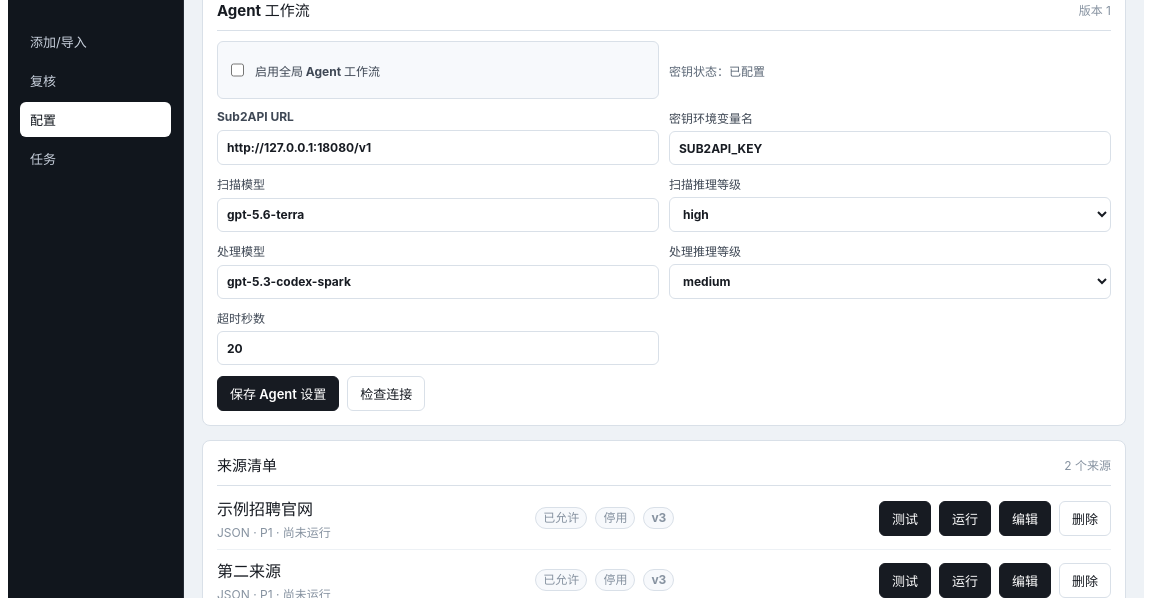
Test: API-driven micro frontend › resets source form values when switching the edited source
Click the button with aria-label "编辑来源 示例招聘官网": x=1025, y=518 999,500 -> 1051,536
(page scrolled)
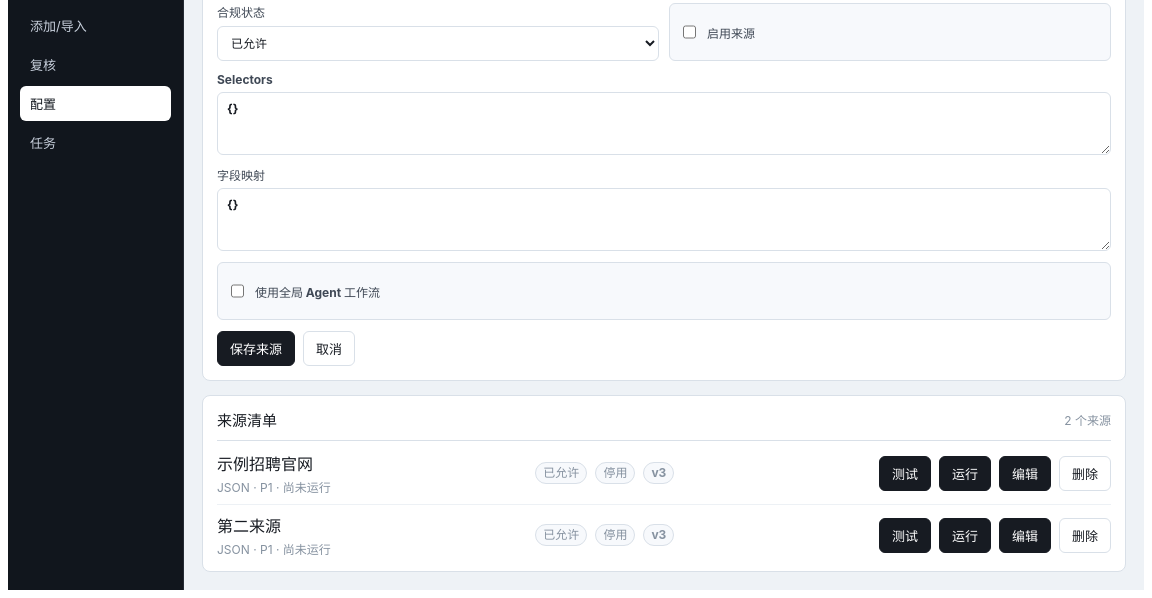
Click the button with aria-label "编辑来源 第二来源": x=1025, y=535 999,518 -> 1051,552
(page scrolled)
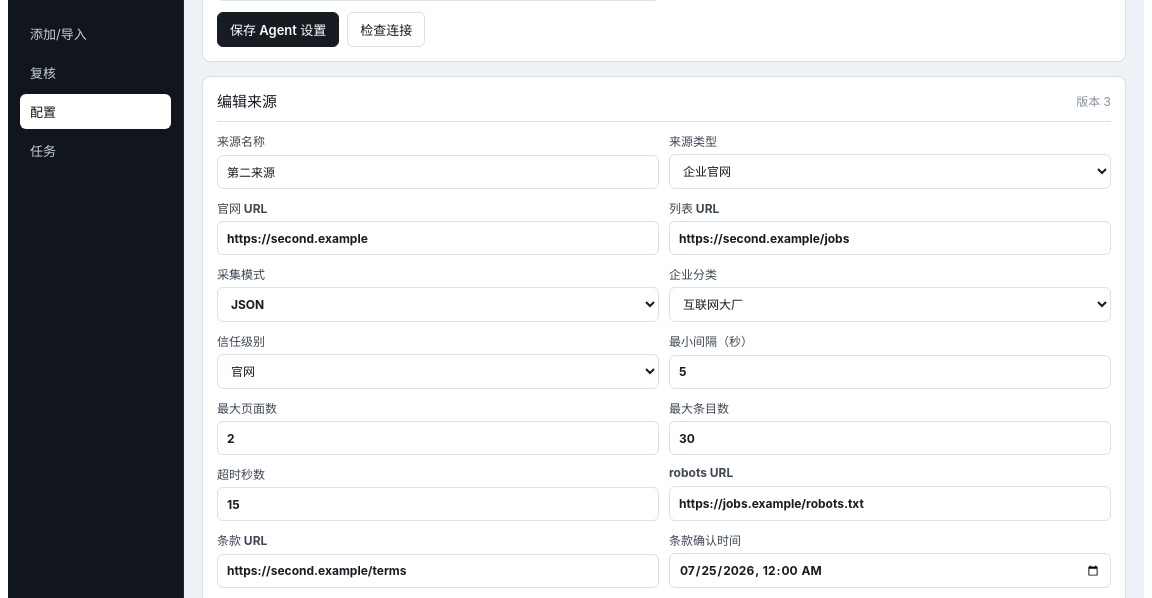
Now the field labelled "来源名称" holds "第二来源", box 217,154 -> 659,189
Now the field labelled "官网 URL" holds "https://second.example", box 217,221 -> 659,255
